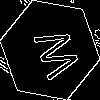W: (25, 25, 81, 85)
